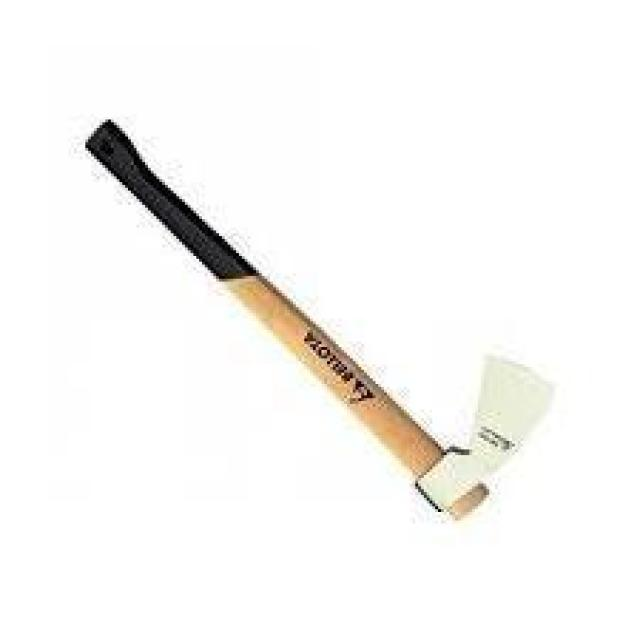Kapak: (76, 111, 534, 506)
